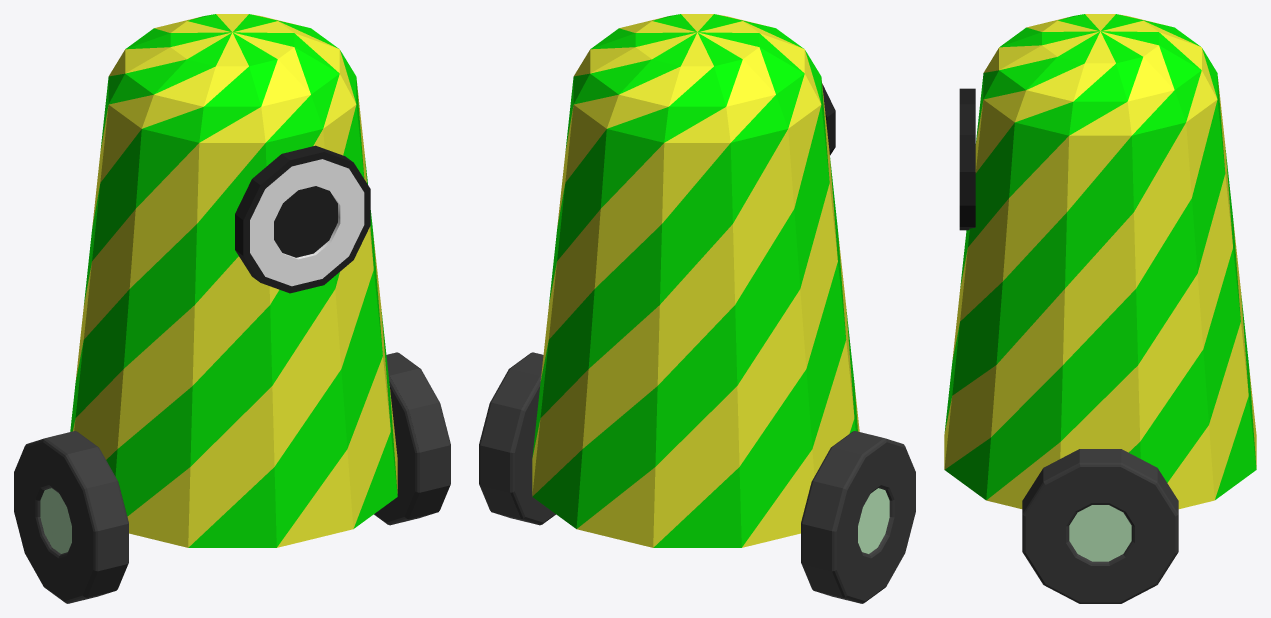
File: kikiboss.dae
3 renders of one model, left to right at view 1: azimuth 30°, elevation 25°; view 2: azimuth 150°, elevation 25°; view 3: azimuth 270°, elevation 25°, orthographic. The views are drawn at different scales.
Visible parts, largest first — view 1: body (×12), Wheel (×3), group_0, group_2, group_1, Wheel_Inner; view 2: body (×12), Wheel (×3), Wheel_Inner; view 3: body (×12), Wheel (×2), Wheel_Inner, group_2.
Boxes of the visible parts, x1,y1,x2,y2 form: body (×12): (70, 14, 397, 547); Wheel (×3): (14, 352, 450, 603); group_0: (250, 159, 364, 286); group_2: (235, 145, 370, 293); group_1: (274, 186, 337, 257); Wheel_Inner: (40, 488, 71, 553); body (×12): (532, 14, 859, 547); Wheel (×3): (479, 352, 915, 603); Wheel_Inner: (858, 488, 889, 553); body (×12): (944, 14, 1256, 508); Wheel (×2): (1022, 449, 1178, 603); Wheel_Inner: (1069, 505, 1131, 561); group_2: (959, 88, 975, 230).
Size of the model in its own units: 33.26 by 26.62 by 46.27.
